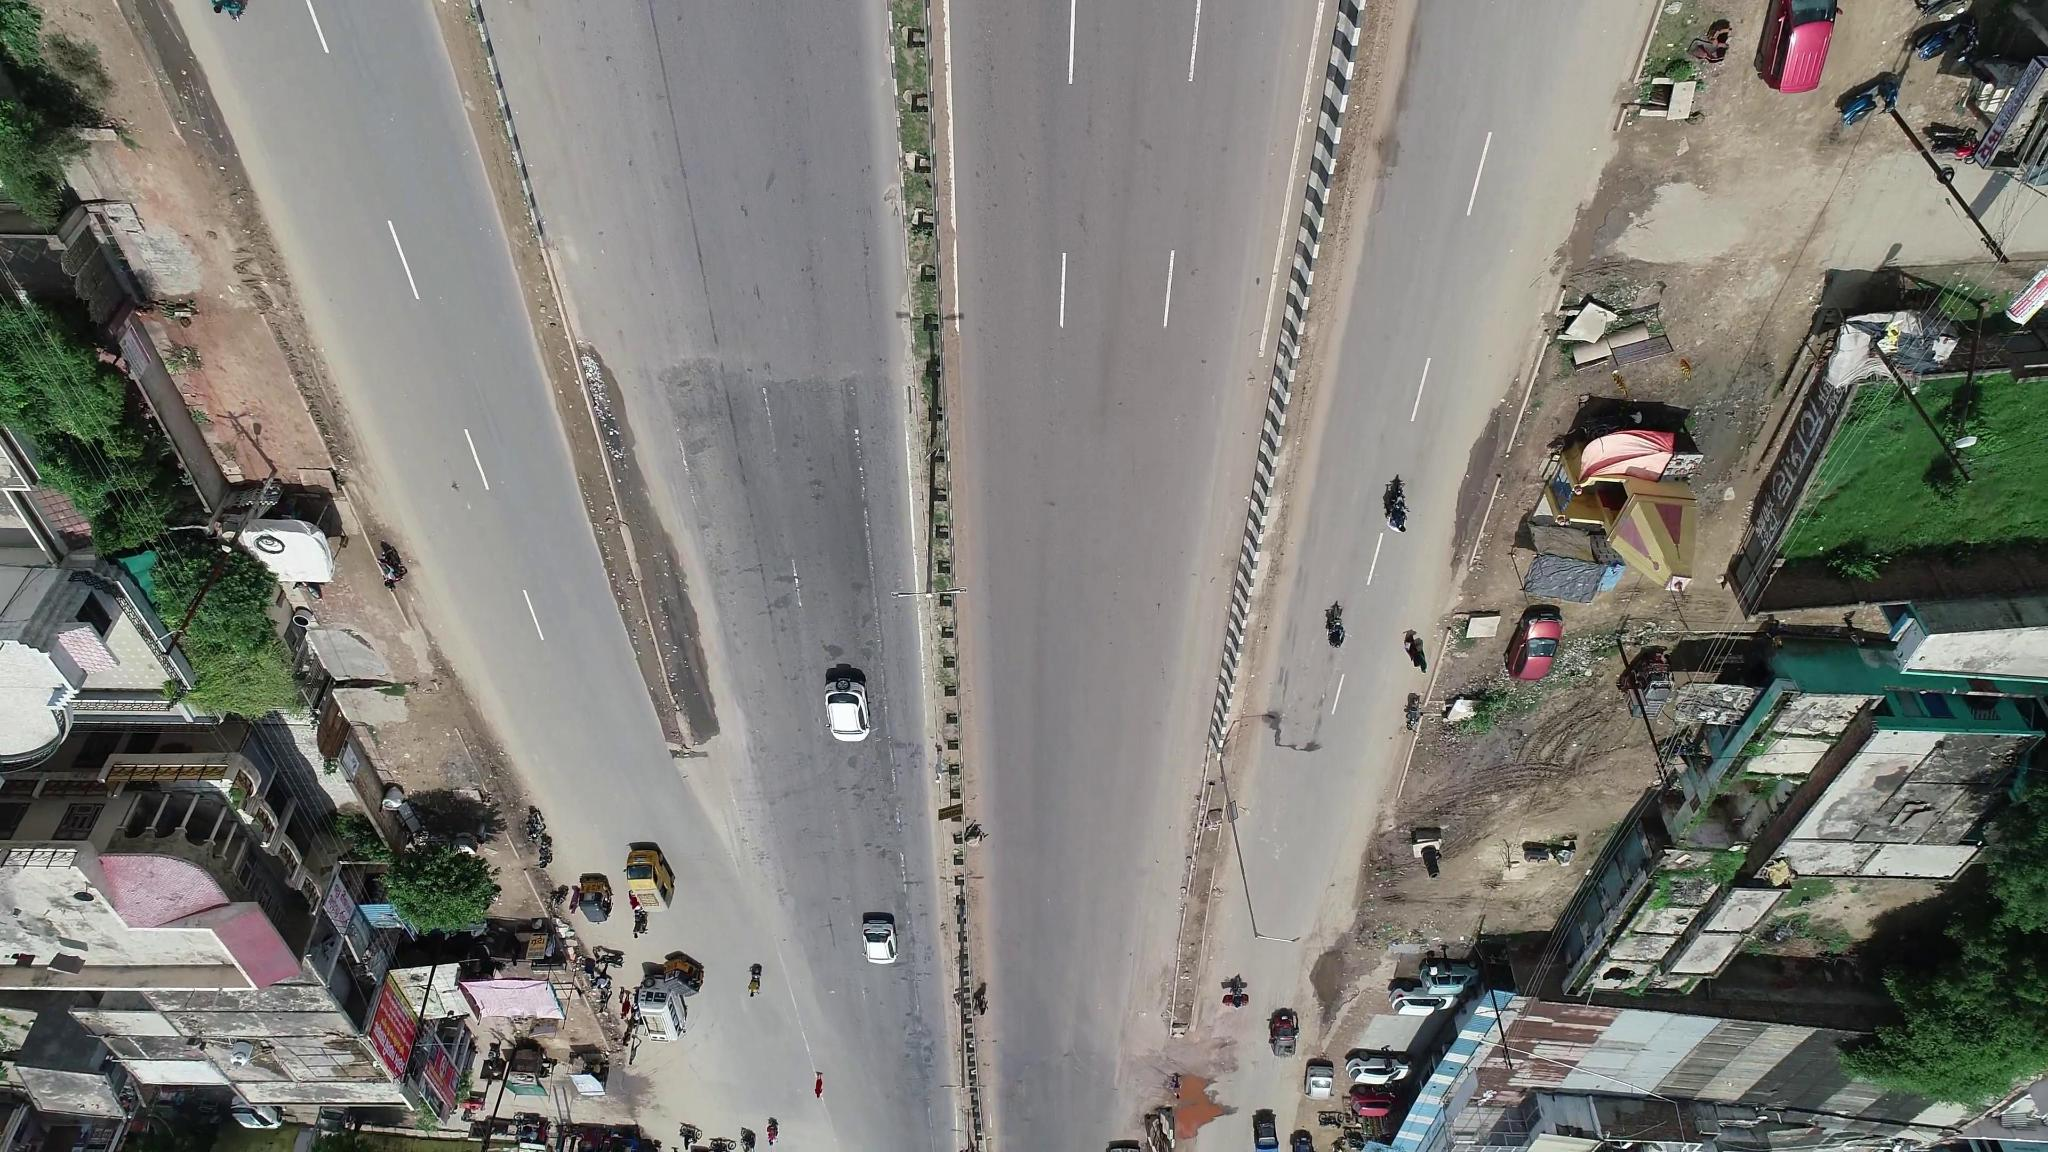Cracks: (655, 84, 753, 480)
Muddy_road: (629, 498, 724, 738)
